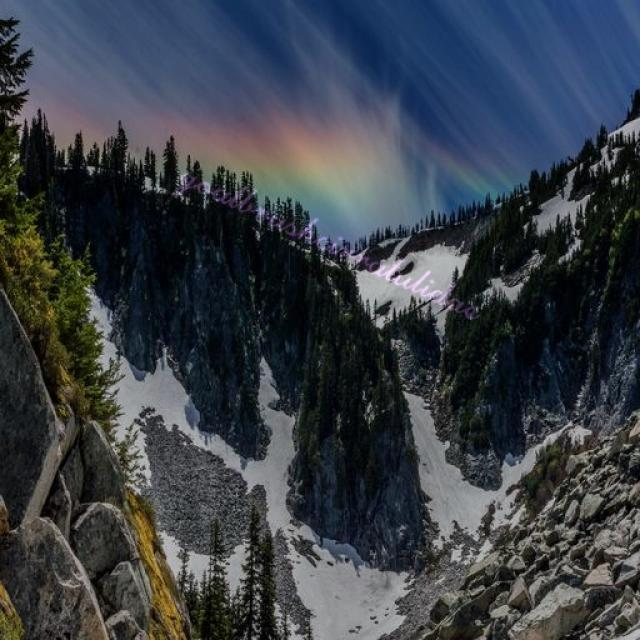watermark: (168, 154, 502, 327)
